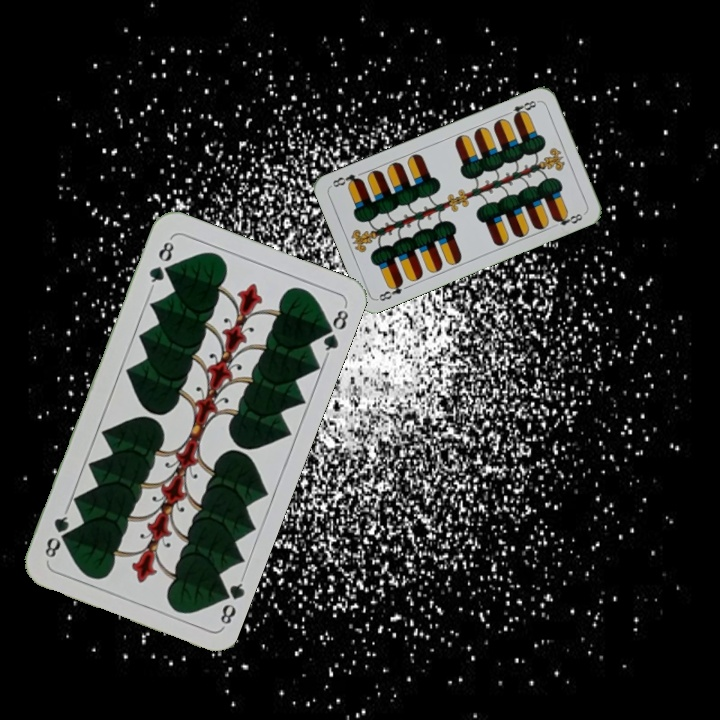E8: (502, 96, 541, 121), (374, 276, 406, 304)
G8: (213, 573, 247, 630), (144, 234, 177, 291)
